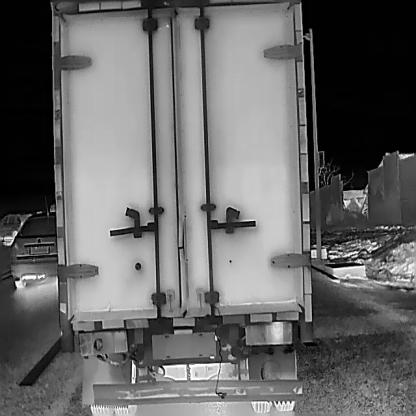car: (9, 195, 61, 288), (0, 211, 33, 246)
truck: (48, 0, 312, 415)
